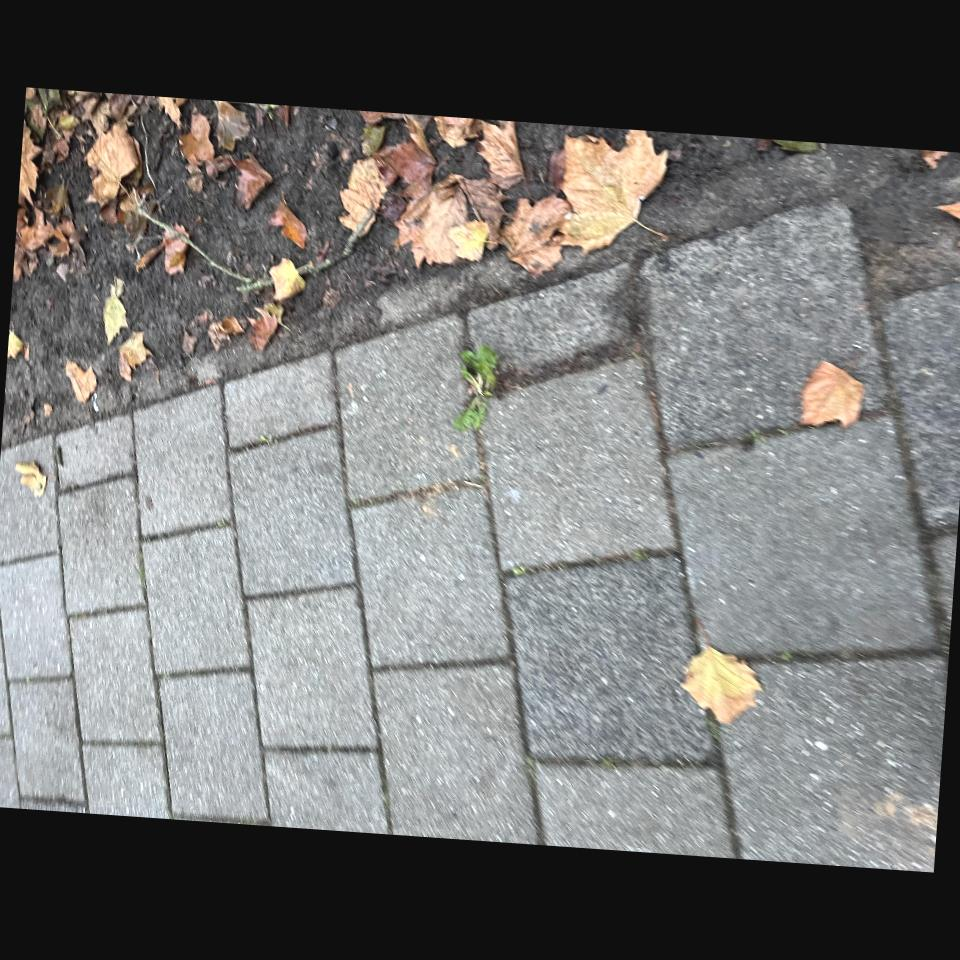weed: (390, 566, 488, 614)
